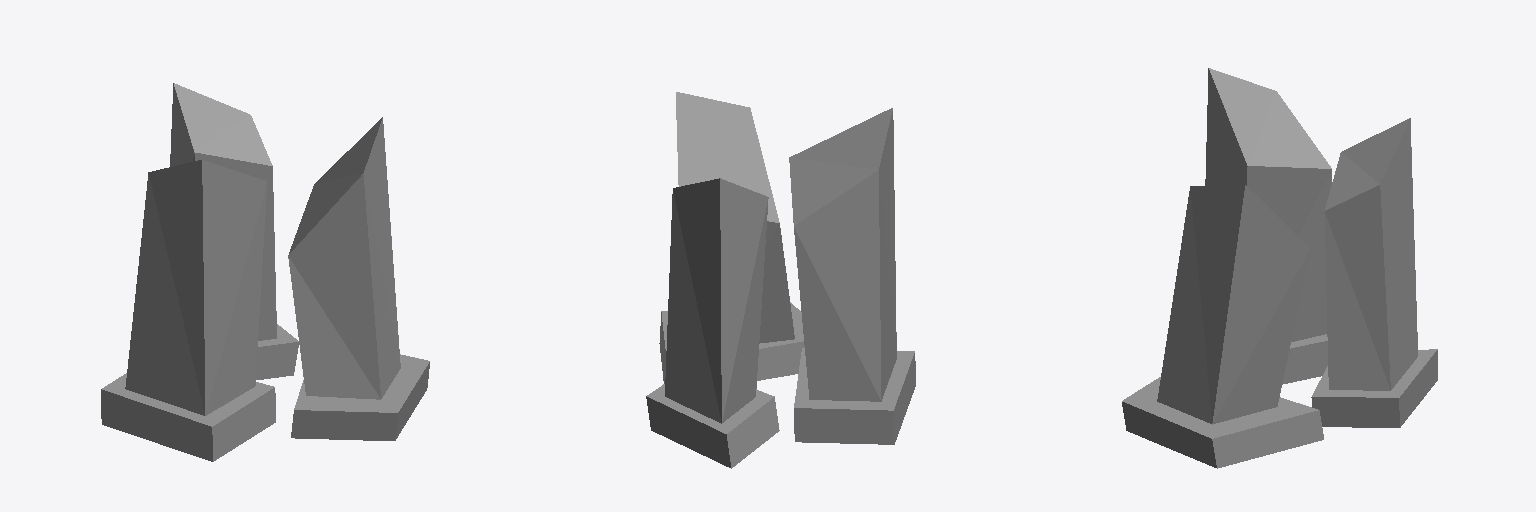
The model's file is CrystalContained.obj.
3 views of the same model, side by side, from view 1: azimuth 30°, elevation 25°; view 2: azimuth 150°, elevation 25°; view 3: azimuth 270°, elevation 25° (orthographic).
Parts seen in each view (by area): view 1: Cube; view 2: Cube; view 3: Cube.
Part boxes in pixels (bbox=[...]): Cube: bbox=[101, 83, 429, 461]; Cube: bbox=[646, 92, 915, 468]; Cube: bbox=[1122, 68, 1437, 468].
Size of the model in its own units: 1.15 by 1.13 by 1.12.